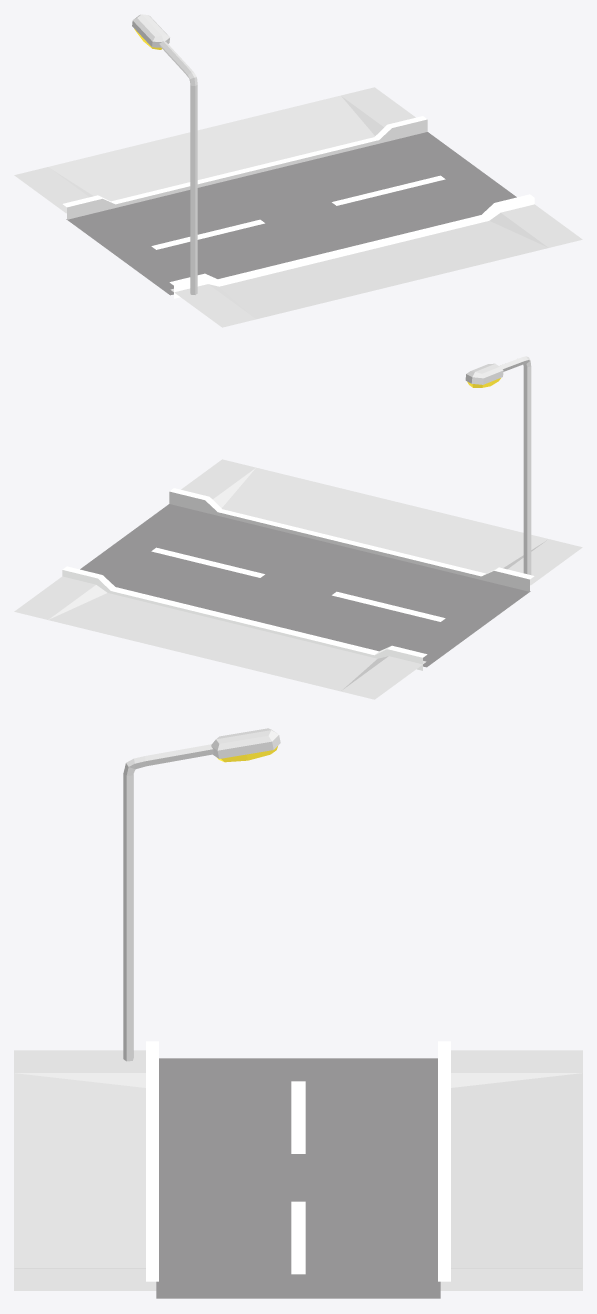
3 renders of one model, top to bottom at view 1: azimuth 30°, elevation 25°; view 2: azimuth 150°, elevation 25°; view 3: azimuth 270°, elevation 25°, orthographic. The views are drawn at different scales.
Visible parts, largest first — view 1: road_tile_1x1_9; view 2: road_tile_1x1_9; view 3: road_tile_1x1_9.
Boxes of the visible parts, bbox=[...] form: road_tile_1x1_9: bbox=[14, 14, 582, 327]; road_tile_1x1_9: bbox=[14, 356, 582, 699]; road_tile_1x1_9: bbox=[14, 728, 582, 1298].
Bounding box in the file's own units: 8 × 5.25 × 8.
Materials: 1 (1 with a texture image).
